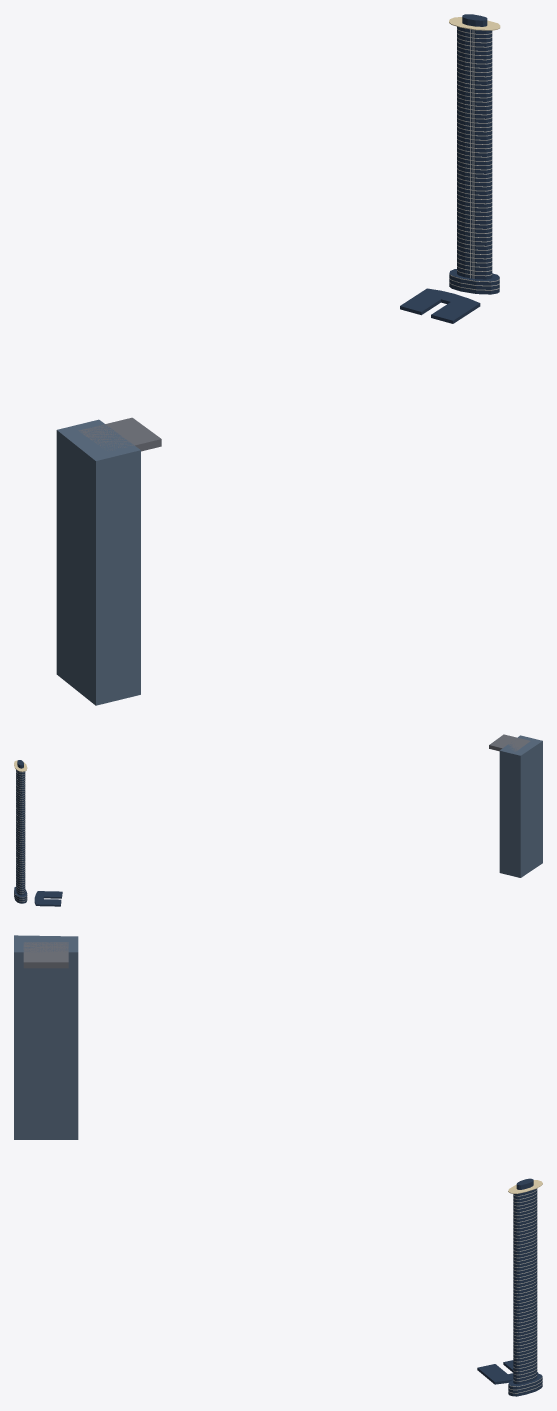
The model's file is opera-grand.glb.
3 renders of one model, top to bottom at view 1: azimuth 30°, elevation 25°; view 2: azimuth 150°, elevation 25°; view 3: azimuth 270°, elevation 25°, orthographic. The views are drawn at different scales.
Visible parts, largest first — view 1: vision_slab_-1, B_1047612078_opera-grand, B_723559997_opera-grand, vision_crown; view 2: vision_slab_-1, B_1047612078_opera-grand, B_723559997_opera-grand, vision_crown; view 3: vision_slab_-1, B_1047612078_opera-grand, vision_crown, B_723559997_opera-grand.
Boxes of the visible parts, <box> form: vision_slab_-1: <box>56,419,140,705</box>; B_1047612078_opera-grand: <box>449,14,499,294</box>; B_723559997_opera-grand: <box>400,288,480,323</box>; vision_crown: <box>78,417,161,451</box>; vision_slab_-1: <box>499,735,542,877</box>; B_1047612078_opera-grand: <box>14,760,27,903</box>; B_723559997_opera-grand: <box>34,891,62,906</box>; vision_crown: <box>489,734,530,751</box>; vision_slab_-1: <box>14,935,78,1139</box>; B_1047612078_opera-grand: <box>508,1178,542,1396</box>; vision_crown: <box>23,942,68,968</box>; B_723559997_opera-grand: <box>477,1360,538,1384</box>.
Size of the model in its own units: 812 by 288 by 664.
